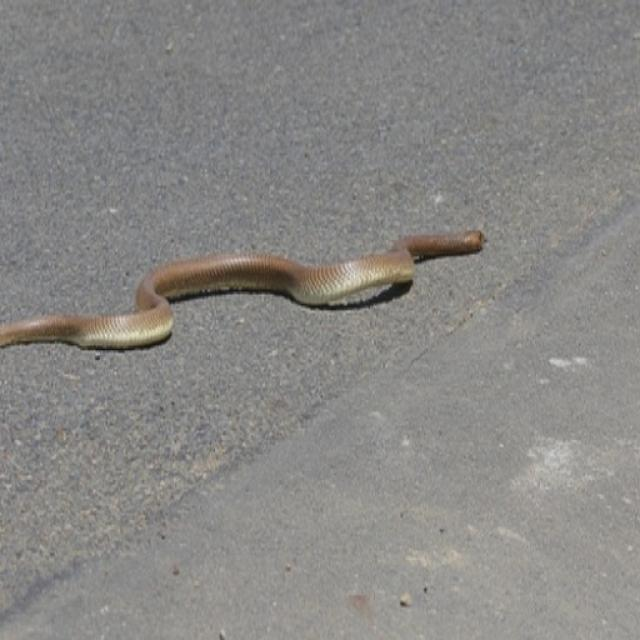snake: (2, 225, 497, 354)
